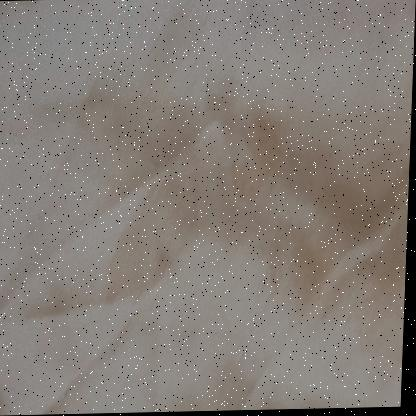spot: (248, 115, 276, 173), (233, 164, 269, 202), (265, 131, 286, 182)
